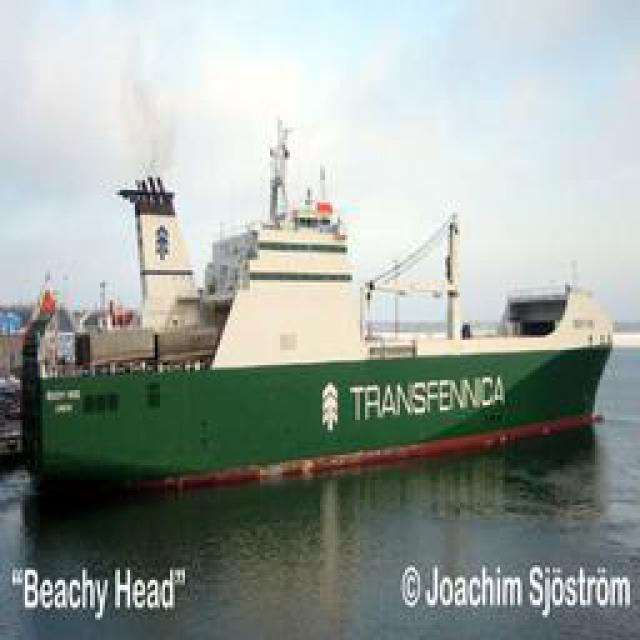Ship: (23, 226, 608, 506)
